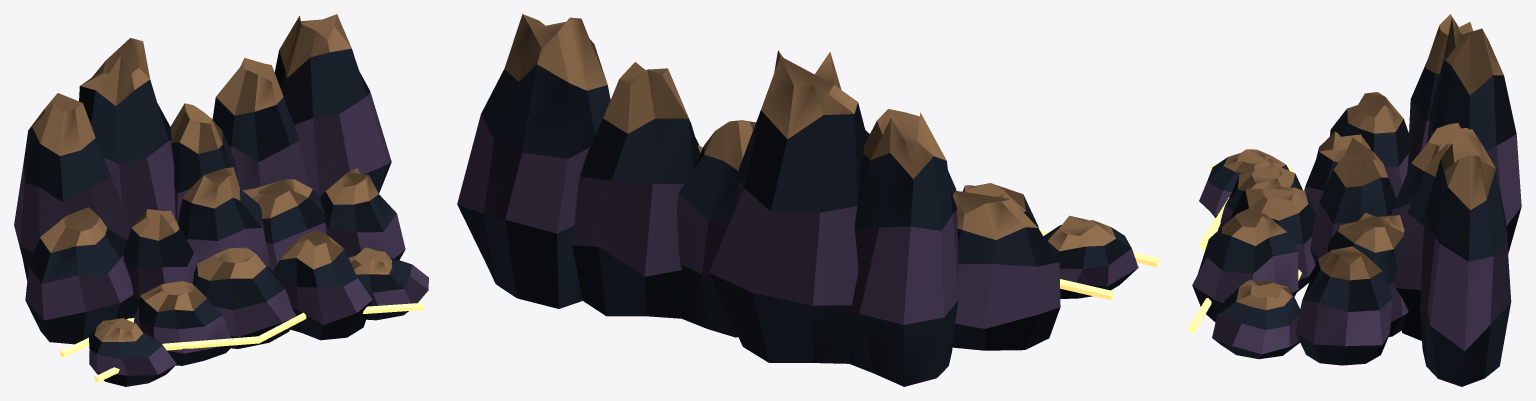
File: forge-basalt.glb
The picture shows the model from 3 angles, left to right: view 1: azimuth 30°, elevation 25°; view 2: azimuth 150°, elevation 25°; view 3: azimuth 270°, elevation 25°; orthographic projection. The views are drawn at different scales.
Parts seen in each view (by area): view 1: forge-basalt; view 2: forge-basalt; view 3: forge-basalt.
Part boxes in pixels (box(x1,y1,x2,y2)): forge-basalt: box(14, 14, 428, 386); forge-basalt: box(457, 14, 1159, 386); forge-basalt: box(1188, 14, 1521, 386).
Size of the model in its own units: 14.24 by 7.37 by 9.33.
